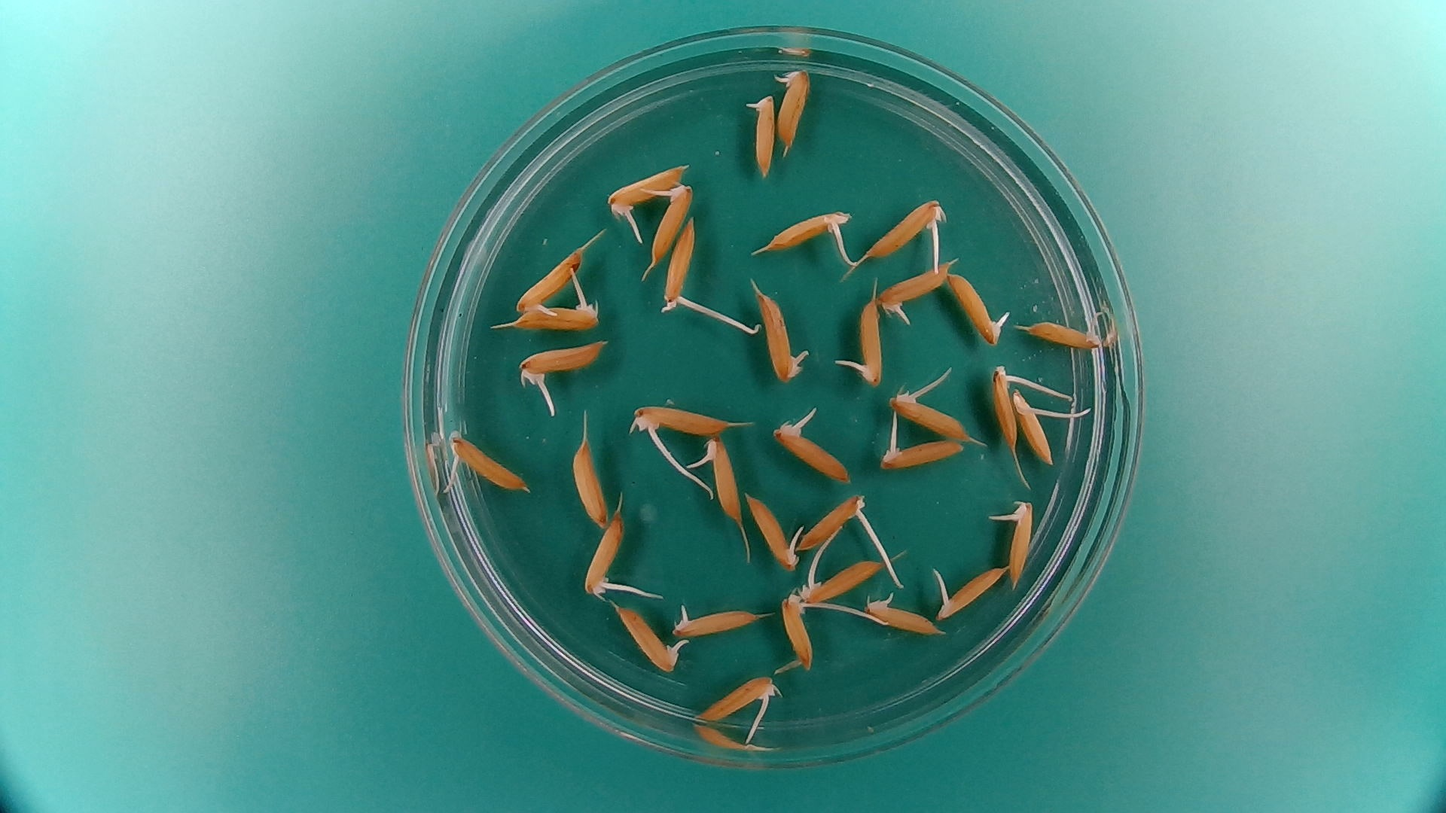no: (569, 436, 610, 530)
yes: (773, 421, 855, 486), (863, 196, 941, 262), (512, 244, 584, 314), (614, 601, 682, 672), (891, 389, 976, 443), (745, 491, 802, 571), (694, 671, 779, 724), (932, 562, 1007, 622), (448, 435, 526, 492), (800, 491, 872, 550), (945, 268, 1003, 341), (800, 556, 884, 606), (606, 164, 688, 215), (581, 513, 627, 601), (759, 209, 853, 251), (700, 437, 745, 522), (876, 262, 952, 312), (633, 404, 732, 440), (877, 431, 966, 471), (1011, 389, 1056, 467), (776, 590, 816, 676), (648, 185, 691, 264), (520, 339, 604, 379), (671, 603, 761, 640), (761, 298, 801, 380), (868, 595, 947, 636), (664, 218, 697, 313), (772, 66, 808, 149), (990, 360, 1023, 450), (743, 92, 778, 176), (513, 300, 604, 332), (1030, 315, 1104, 352), (1003, 499, 1033, 583), (857, 300, 886, 385)
